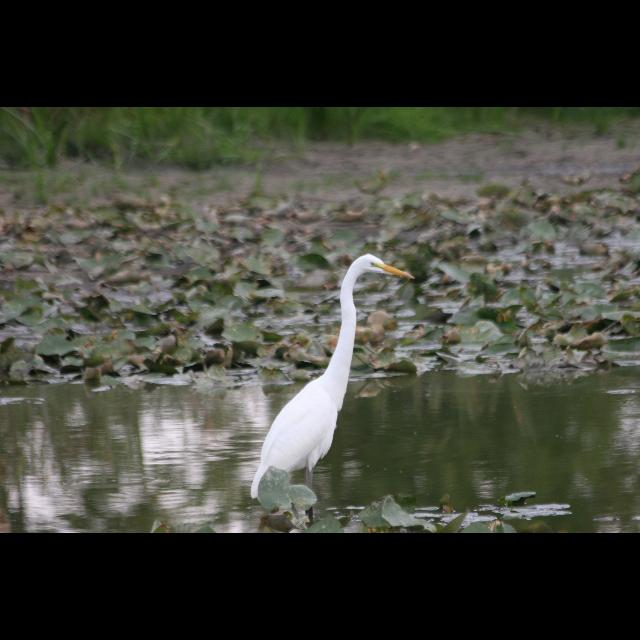egret: (238, 254, 420, 526)
